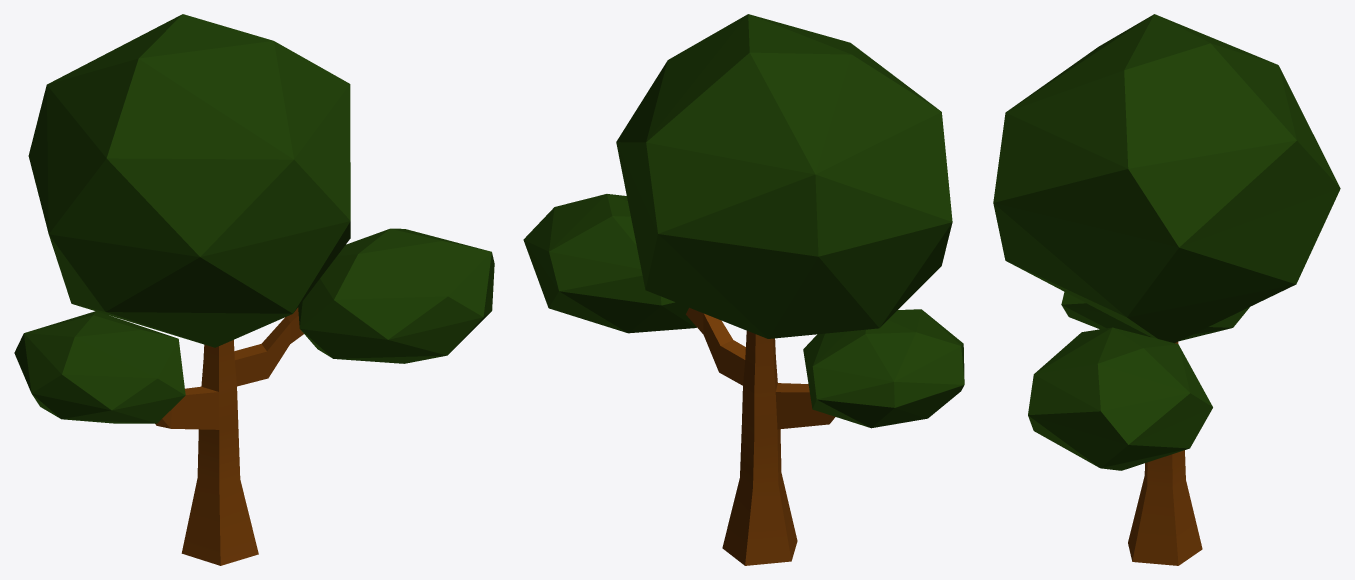
File: tree_large_Dean.fbx
3 views of the same model, side by side, from view 1: azimuth 30°, elevation 25°; view 2: azimuth 150°, elevation 25°; view 3: azimuth 270°, elevation 25° (orthographic). The views are drawn at different scales.
Parts seen in each view (by area): view 1: Icosphere1, Icosphere2, Icosphere3, Cylinder1; view 2: Icosphere1, Icosphere3, Cylinder1, Icosphere2; view 3: Icosphere1, Icosphere2, Cylinder1, Icosphere3.
Part boxes in pixels (left/top/right/bottom): Icosphere1: left=28, top=14, right=350, bottom=347; Icosphere2: left=298, top=228, right=494, bottom=363; Icosphere3: left=14, top=311, right=185, bottom=423; Cylinder1: left=155, top=307, right=303, bottom=565; Icosphere1: left=616, top=14, right=952, bottom=338; Icosphere3: left=803, top=309, right=964, bottom=428; Cylinder1: left=686, top=307, right=835, bottom=565; Icosphere2: left=523, top=194, right=696, bottom=333; Icosphere1: left=993, top=14, right=1340, bottom=343; Icosphere2: left=1028, top=327, right=1212, bottom=470; Cylinder1: left=1128, top=342, right=1202, bottom=565; Icosphere3: left=1061, top=292, right=1249, bottom=341.
Bounding box in the file's own units: 598 × 656 × 411.
